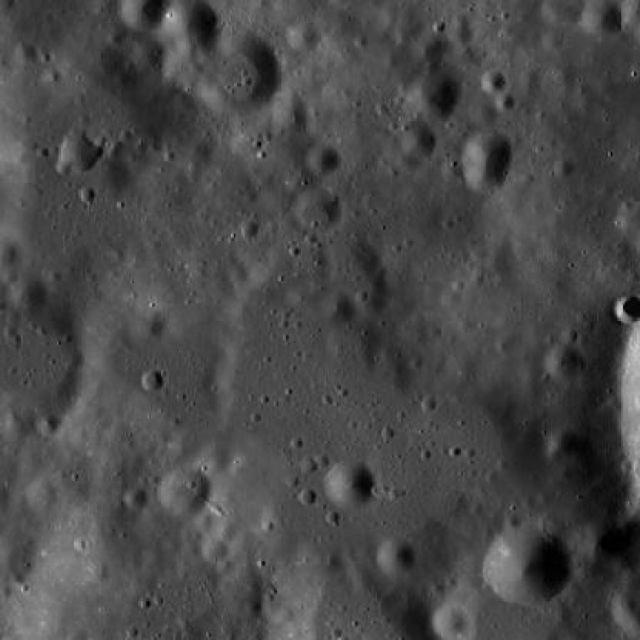crater: (366, 354, 560, 546), (56, 292, 230, 466), (0, 278, 88, 440), (194, 30, 282, 116), (484, 522, 570, 608), (154, 0, 218, 62), (583, 510, 640, 573), (457, 133, 515, 192), (158, 465, 214, 521), (326, 237, 379, 290), (324, 458, 376, 511), (325, 318, 378, 370), (410, 69, 461, 120), (0, 530, 43, 584), (294, 186, 340, 232), (431, 487, 474, 530), (352, 272, 394, 314), (122, 0, 173, 34), (166, 49, 207, 91), (270, 91, 310, 131), (9, 272, 49, 312), (581, 0, 621, 38), (60, 134, 98, 172), (399, 120, 436, 158), (410, 26, 448, 63), (546, 343, 582, 380), (377, 538, 414, 574), (128, 36, 164, 72), (304, 140, 340, 176), (320, 290, 356, 326), (432, 604, 468, 640), (286, 18, 322, 53), (543, 0, 585, 29), (24, 478, 58, 512), (182, 138, 216, 171), (548, 426, 580, 459), (130, 310, 162, 342), (486, 247, 516, 276), (614, 293, 640, 324), (540, 27, 568, 55), (199, 535, 227, 563), (481, 68, 508, 96), (212, 516, 238, 542), (124, 484, 150, 510), (396, 148, 421, 172), (448, 23, 472, 48), (612, 593, 636, 618), (35, 414, 60, 438), (441, 158, 464, 182), (226, 262, 249, 286), (141, 371, 164, 394), (14, 42, 36, 64), (493, 94, 515, 115), (238, 219, 259, 241), (196, 512, 216, 532), (520, 68, 540, 86), (553, 158, 572, 176), (215, 558, 234, 576), (108, 28, 126, 46), (470, 244, 488, 262), (90, 560, 108, 577), (57, 158, 74, 175), (80, 186, 97, 203), (44, 66, 61, 83), (420, 394, 437, 411), (453, 12, 470, 28), (299, 488, 316, 504), (299, 458, 316, 474), (504, 516, 520, 532), (560, 328, 576, 343), (0, 583, 12, 600), (0, 1, 1, 2)
